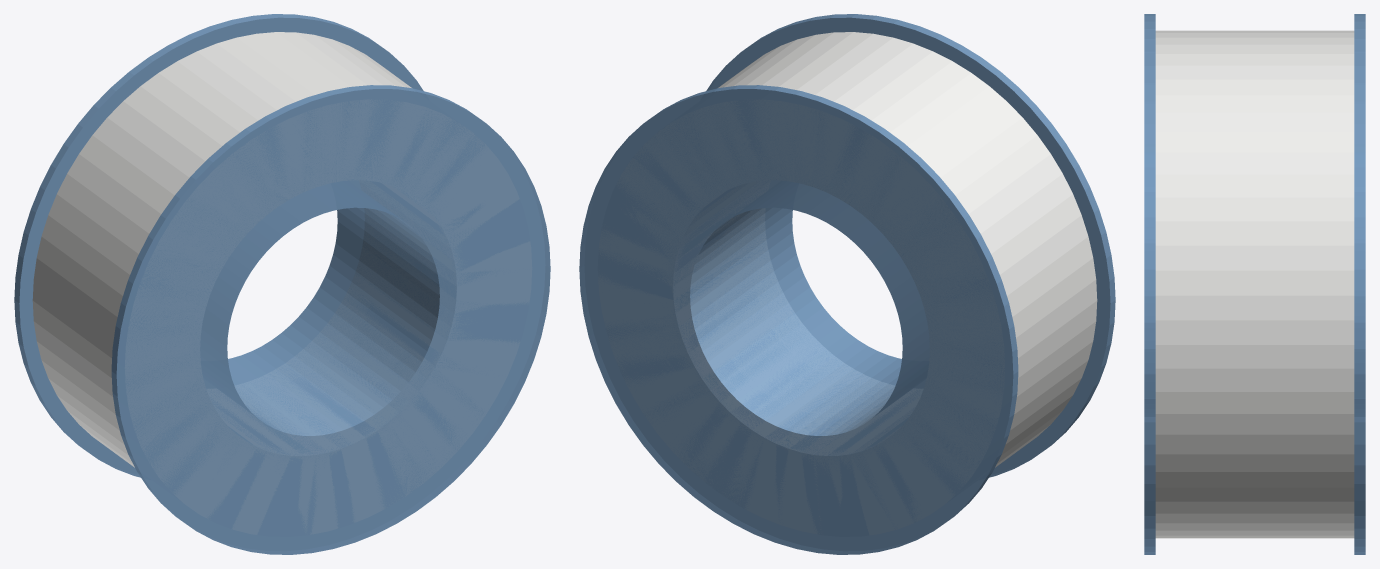
The model's file is fita_veda_rosca_18mm.obj.
The picture shows the model from 3 angles, left to right: view 1: azimuth 30°, elevation 25°; view 2: azimuth 150°, elevation 25°; view 3: azimuth 270°, elevation 25°; orthographic projection. The views are drawn at different scales.
Parts seen in each view (by area): view 1: fita_veda_rosca_18mm_carretel, fita_veda_rosca_18mm_fita; view 2: fita_veda_rosca_18mm_carretel, fita_veda_rosca_18mm_fita; view 3: fita_veda_rosca_18mm_fita, fita_veda_rosca_18mm_carretel.
Part boxes in pixels (x1=…): fita_veda_rosca_18mm_carretel: x1=14, y1=14, x2=550, y2=554; fita_veda_rosca_18mm_fita: x1=32, y1=32, x2=531, y2=533; fita_veda_rosca_18mm_carretel: x1=579, y1=14, x2=1115, y2=554; fita_veda_rosca_18mm_fita: x1=600, y1=32, x2=1097, y2=533; fita_veda_rosca_18mm_fita: x1=1155, y1=30, x2=1354, y2=538; fita_veda_rosca_18mm_carretel: x1=1144, y1=14, x2=1365, y2=554.
Bounding box in the file's own units: 49 × 49 × 20.
